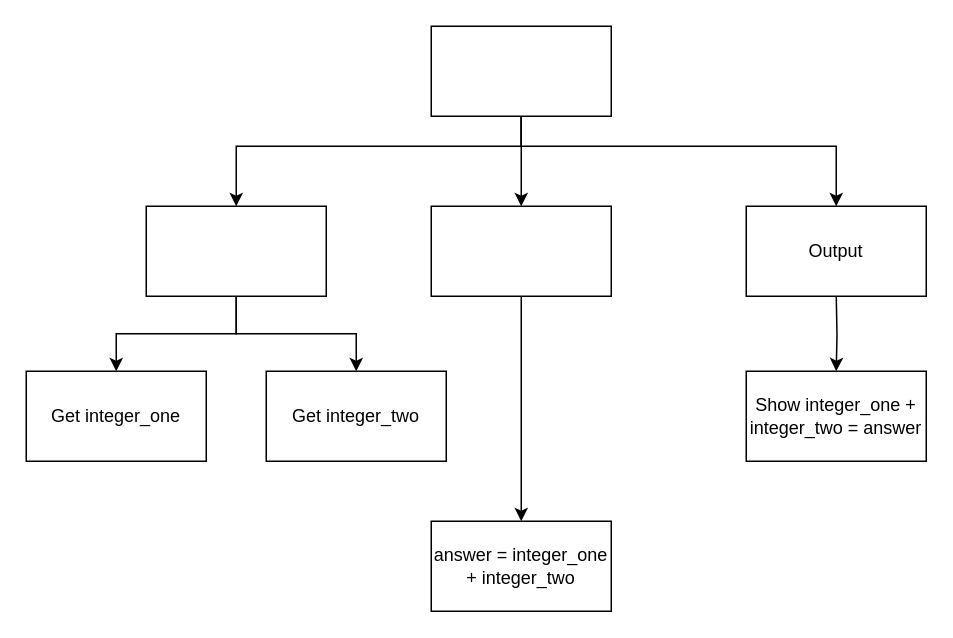
This 953x638 diagram has some shape labels left out. The shapes that lost their labels are listed below. From the top down, each one's box as (x1, y1, x2, y2) in pixels, then its label:
(430, 25, 611, 116): Adding two numbers
(145, 205, 326, 296): Input
(430, 205, 611, 296): Process
